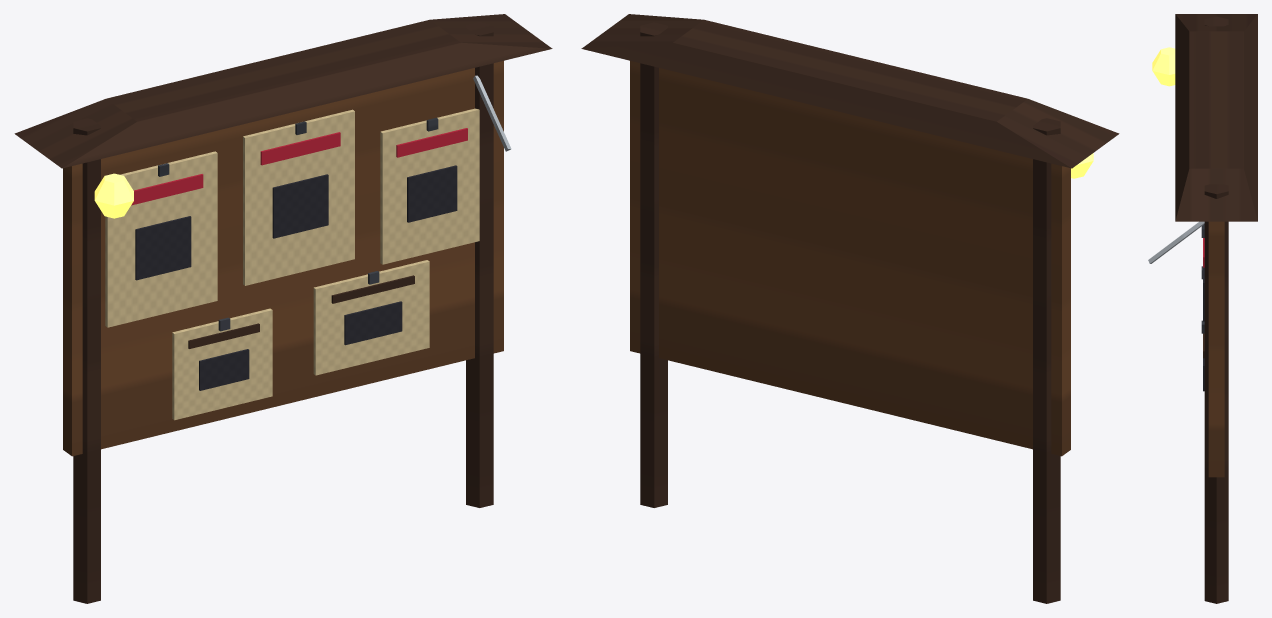
Rendered from SM_Prop_BountyBoard_HQ.glb.
3 renders of one model, left to right at view 1: azimuth 30°, elevation 25°; view 2: azimuth 150°, elevation 25°; view 3: azimuth 270°, elevation 25°, orthographic. The views are drawn at different scales.
Visible parts, largest first — view 1: SM_Prop_BountyBoard_HQ; view 2: SM_Prop_BountyBoard_HQ; view 3: SM_Prop_BountyBoard_HQ.
Boxes of the visible parts, x1,y1,x2,y2 form: SM_Prop_BountyBoard_HQ: (14, 14, 552, 603); SM_Prop_BountyBoard_HQ: (581, 14, 1119, 603); SM_Prop_BountyBoard_HQ: (1148, 14, 1257, 603).
Size of the model in its own units: 2.5 by 2.33 by 0.5588.
1 material, 1 textured.
